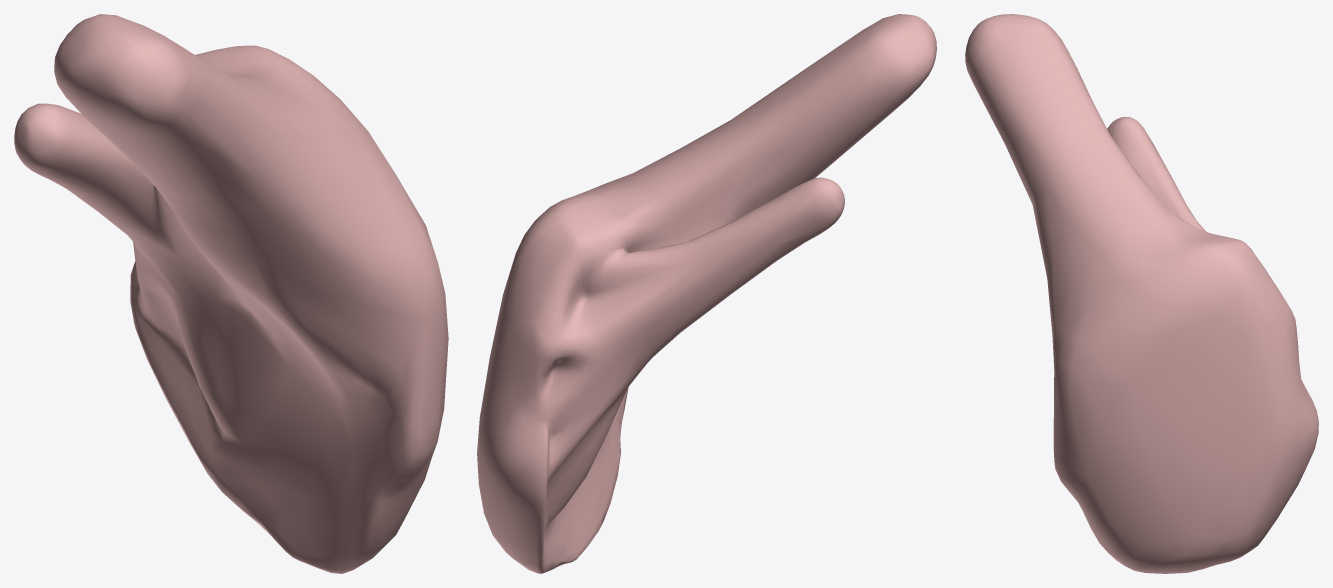
The model's file is papillary-left.glb.
3 renders of one model, left to right at view 1: azimuth 30°, elevation 25°; view 2: azimuth 150°, elevation 25°; view 3: azimuth 270°, elevation 25°, orthographic. The views are drawn at different scales.
Visible parts, largest first — view 1: structure; view 2: structure; view 3: structure.
Boxes of the visible parts, left/top/right/bottom form: structure: left=14, top=14, right=448, bottom=573; structure: left=477, top=14, right=936, bottom=573; structure: left=965, top=14, right=1318, bottom=573.
Size of the model in its own units: 27.92 by 42.07 by 29.76.
